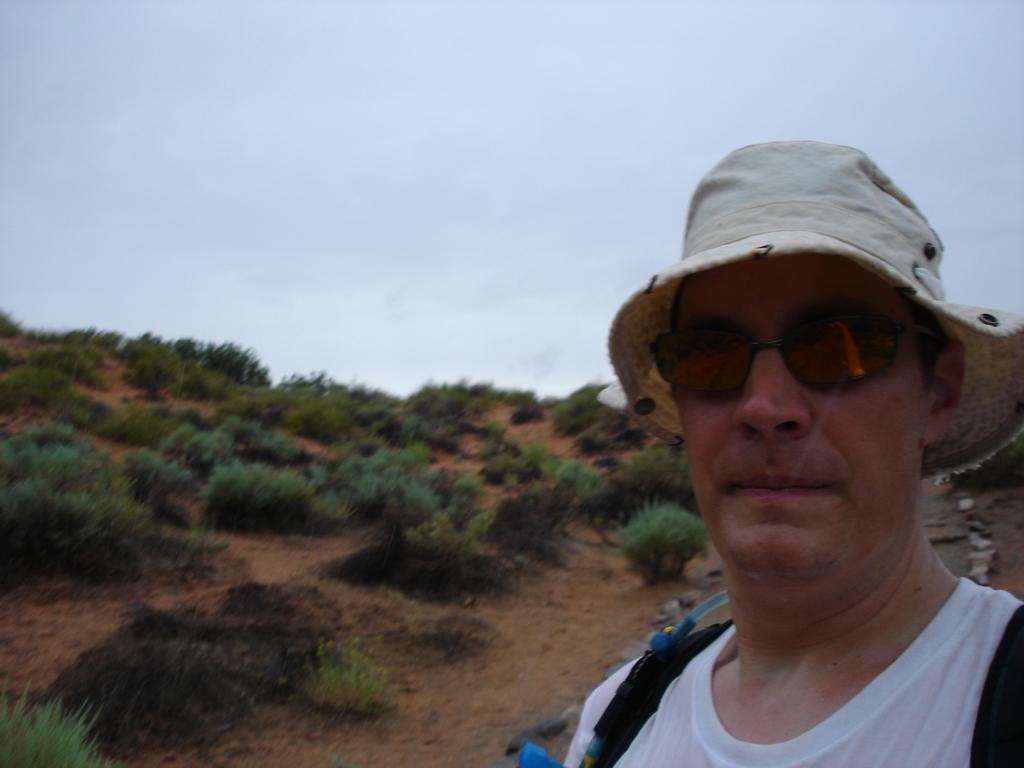Hat: (604, 140, 1022, 484)
